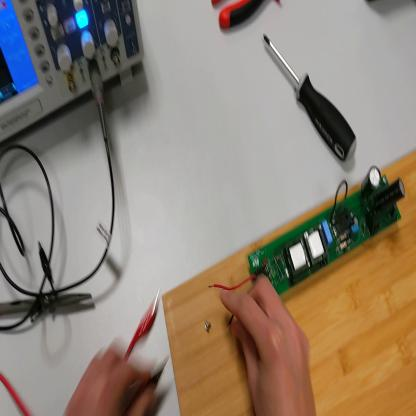hand: (221, 275, 318, 415), (66, 342, 157, 415)
high voltage board: (207, 161, 405, 327)
oscilloscope: (2, 2, 144, 145)
oscilloscope probe tip: (1, 292, 94, 320)
pliers: (210, 1, 281, 32)
screwdriver-: (265, 36, 360, 166)
working area: (164, 150, 416, 416)
